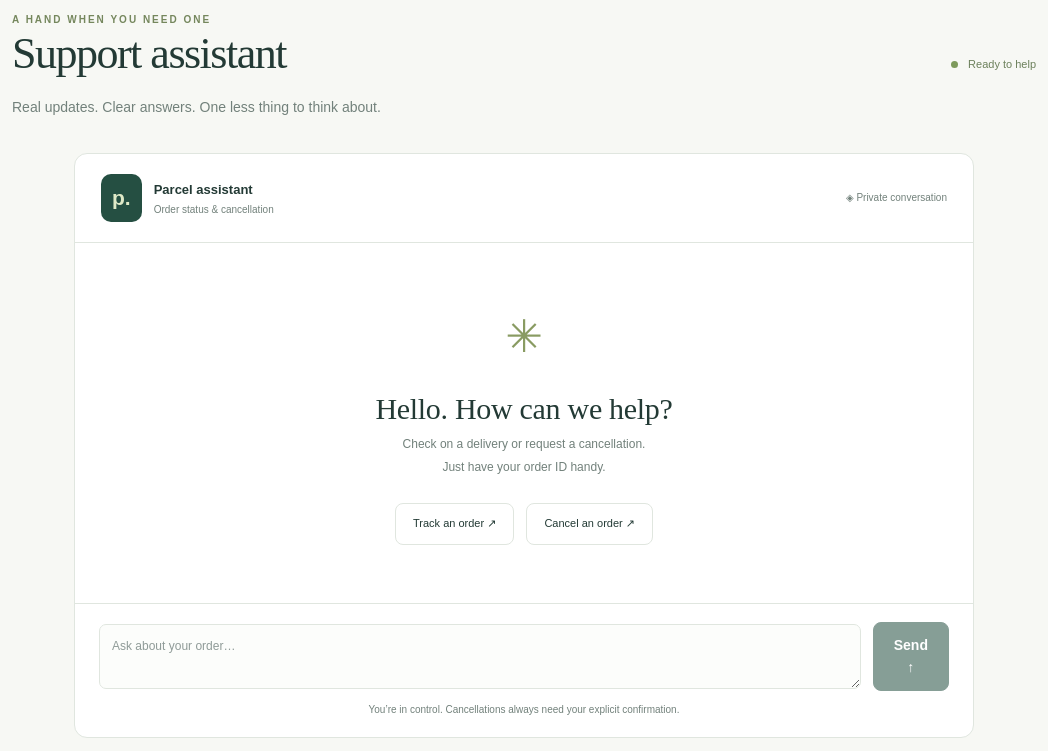
failed send preserves text and retry client ID
Expected: the heading "Hello. How can we help?" is shown, [375, 392, 673, 425]
Type "Where is ORD1001?" into the text box named "Message the support assistant" at (480, 656), box [99, 624, 861, 689]
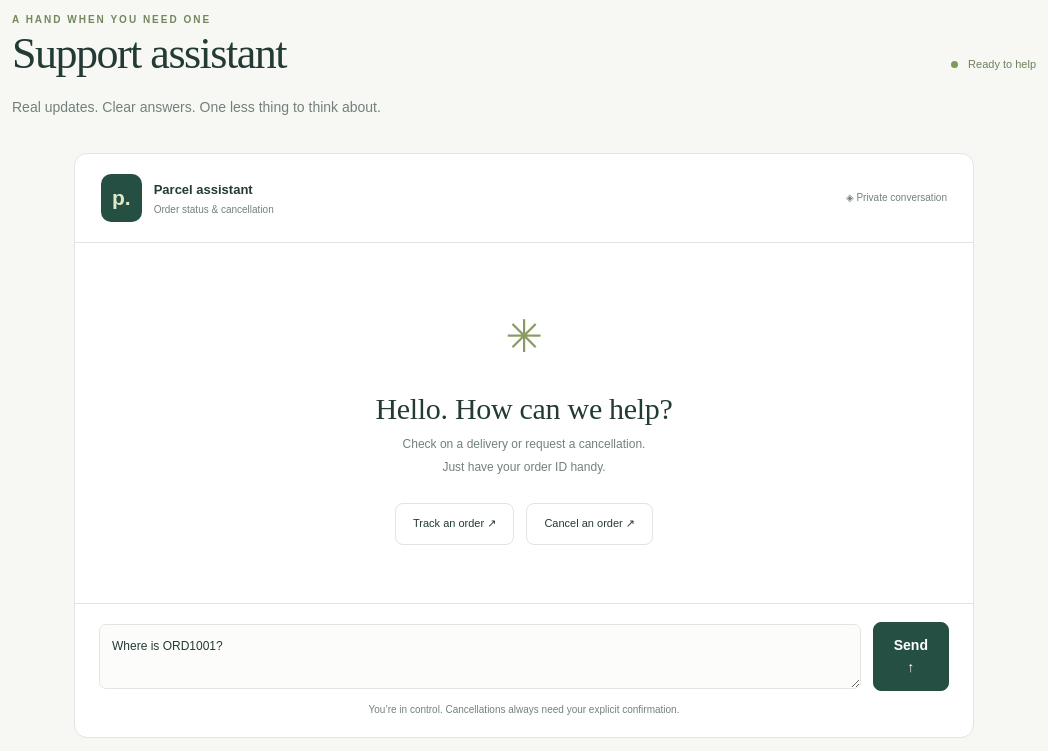
Click the button "Send ↑" at (911, 656), box [873, 622, 949, 691]
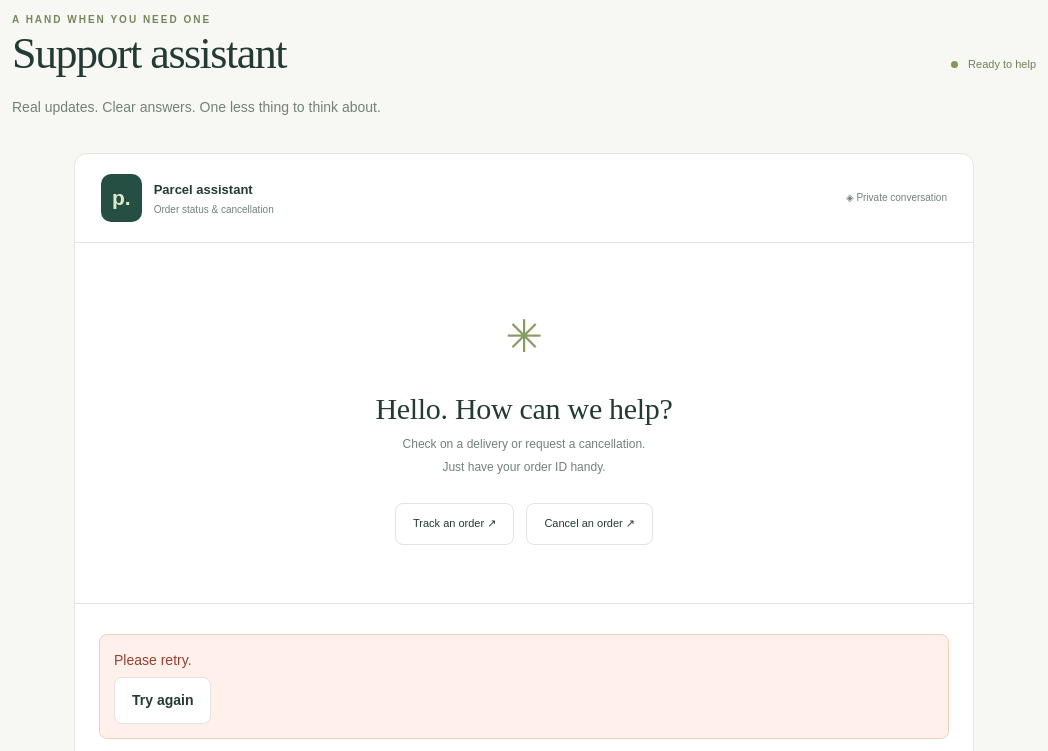
Now the text "Please retry." is shown, box [114, 652, 192, 668]
Click the button "Try again" at (163, 701), box [114, 677, 212, 724]
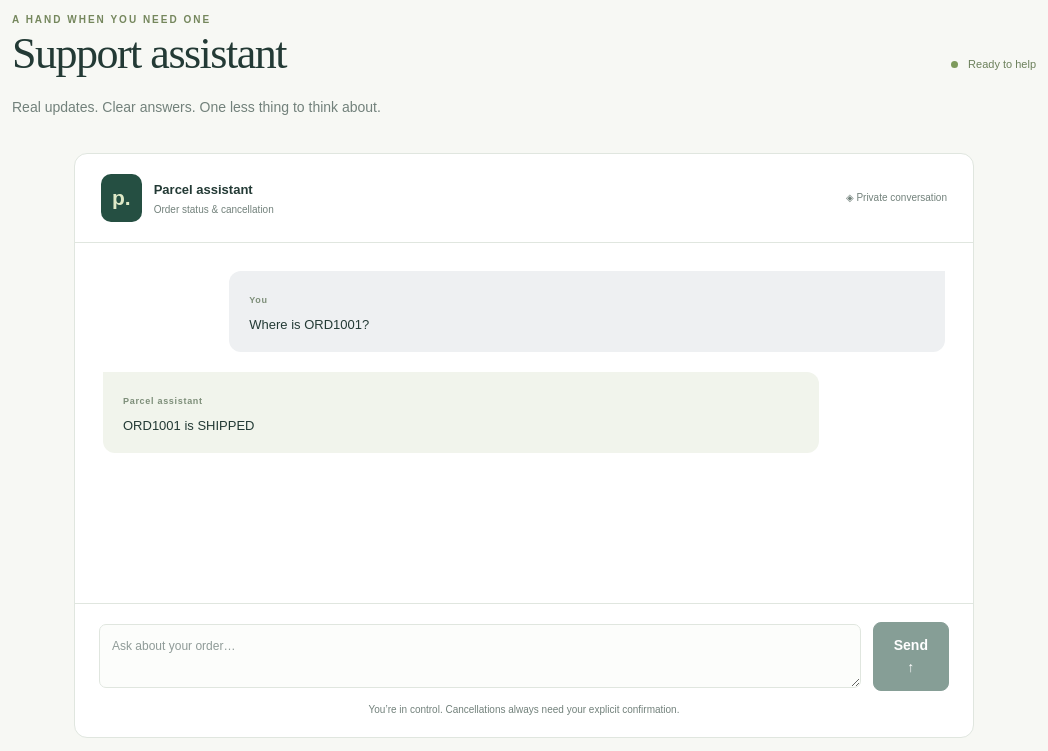
Now the text "ORD1001 is SHIPPED" is shown, box [123, 418, 254, 433]
Now the text box named "Message the support assistant" is empty, box [99, 624, 861, 688]
